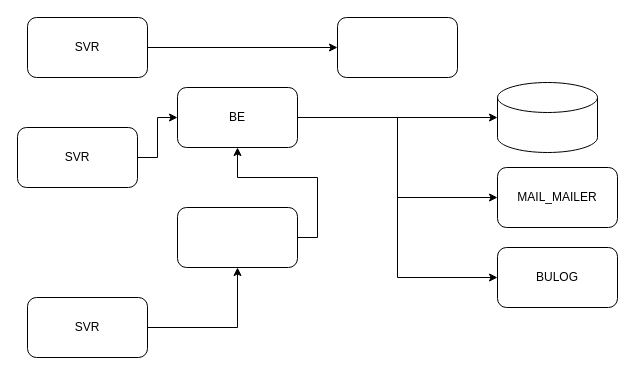
Image size: 635x375. Some labels were removed from this diagram. The centre of each missing label's shape, as x and y in pixels:
BE (MONEV): point 397,47
FE: point 237,237
MONGODB: point 547,117
